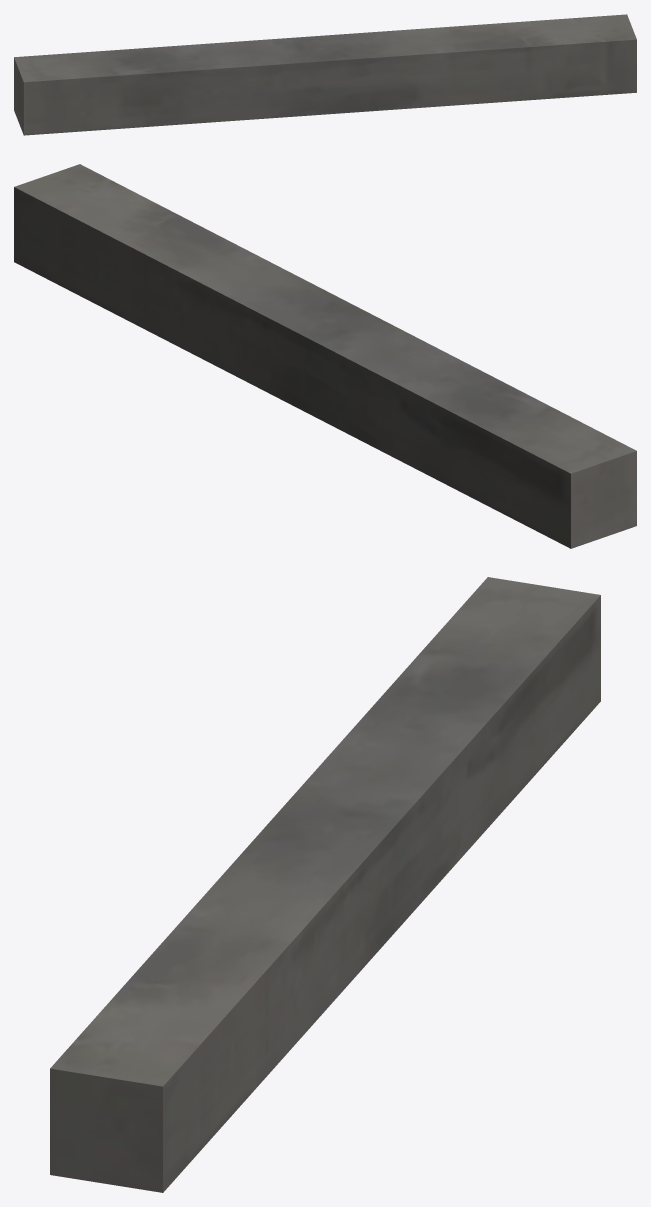
File: frame__incline_ladder_rail.glb
3 renders of one model, top to bottom at view 1: azimuth 30°, elevation 25°; view 2: azimuth 150°, elevation 25°; view 3: azimuth 270°, elevation 25°, orthographic. The views are drawn at different scales.
Visible parts, largest first — view 1: world; view 2: world; view 3: world.
Part boxes in pixels (x1=…): world: x1=14, y1=14, x2=636, y2=135; world: x1=14, y1=164, x2=636, y2=548; world: x1=50, y1=577, x2=600, y2=1192.
Size of the model in its own units: 0.3493 by 0.034 by 0.1596.
Materials: 1 (1 with a texture image).
